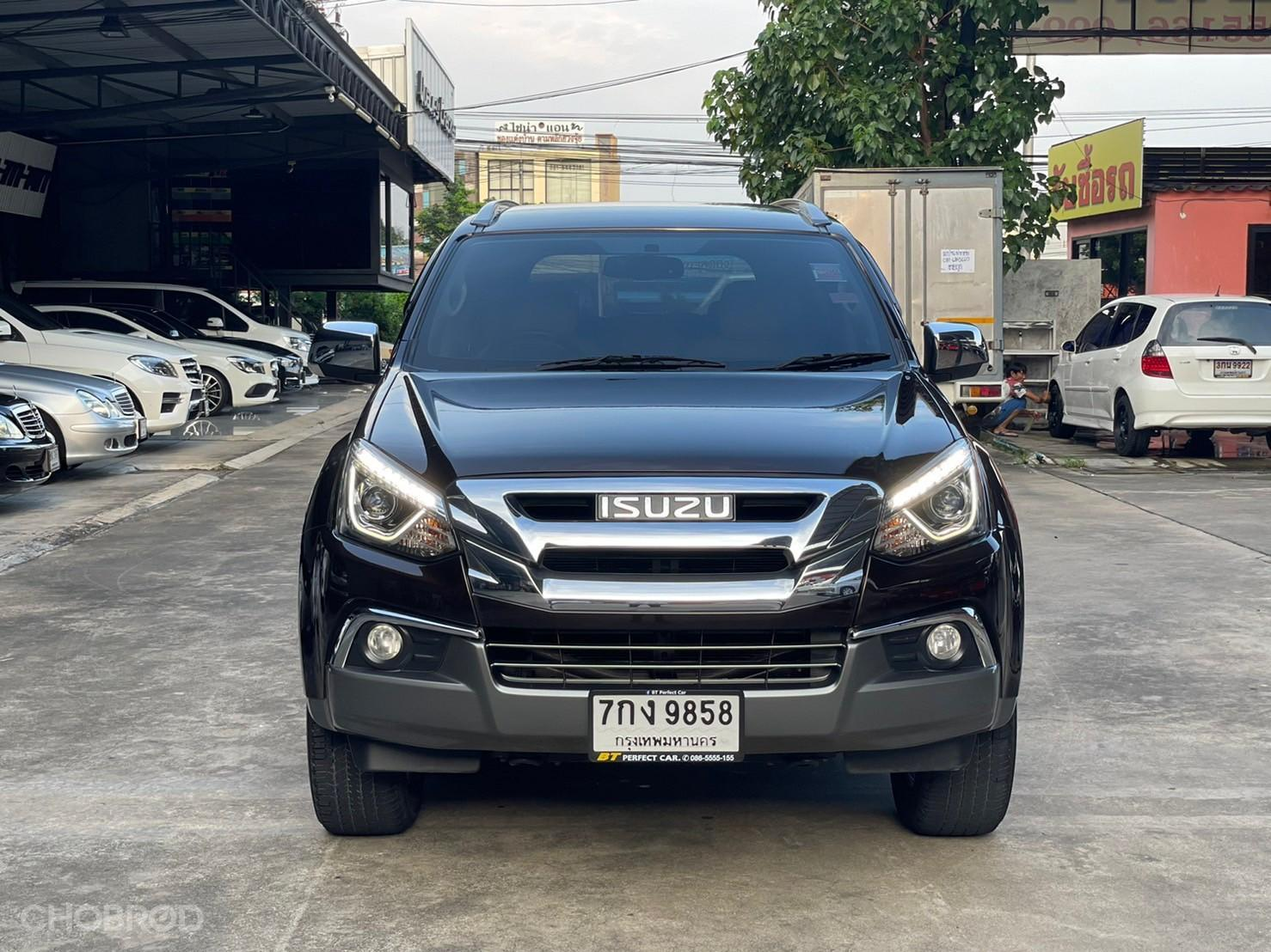license-plate: (587, 683, 745, 770), (1210, 355, 1259, 383)
